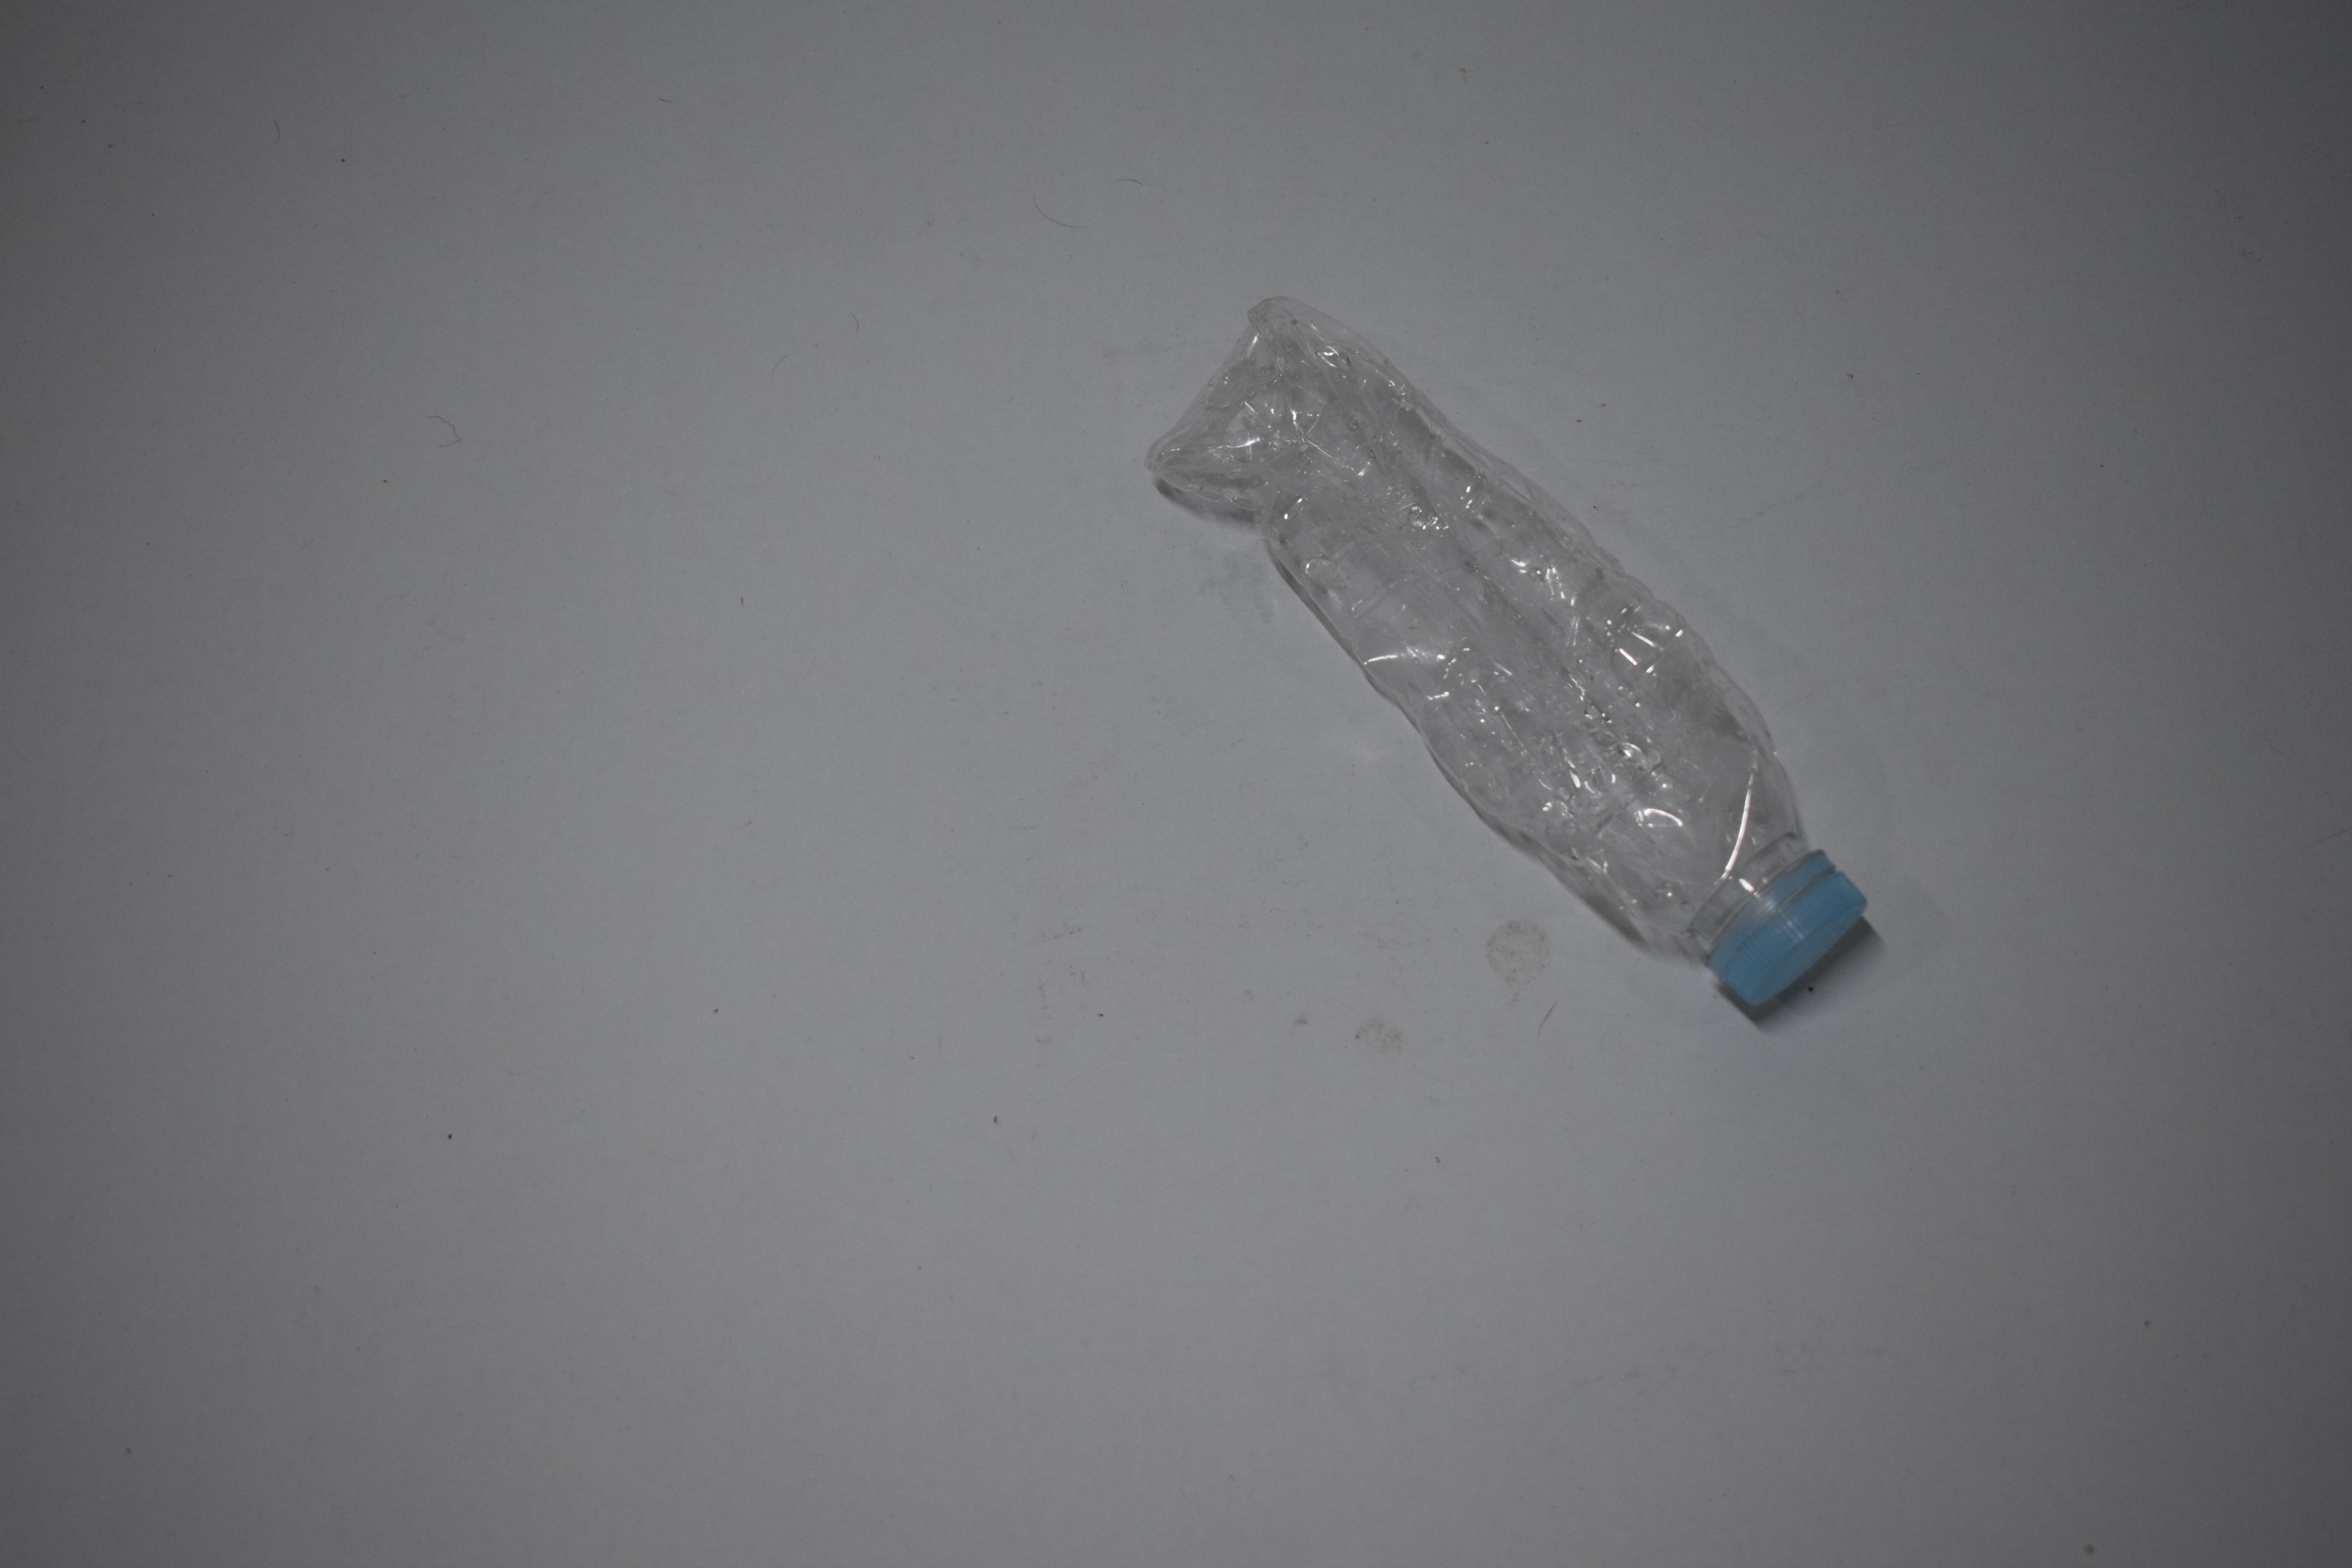bottle: (1143, 282, 1873, 1034)
